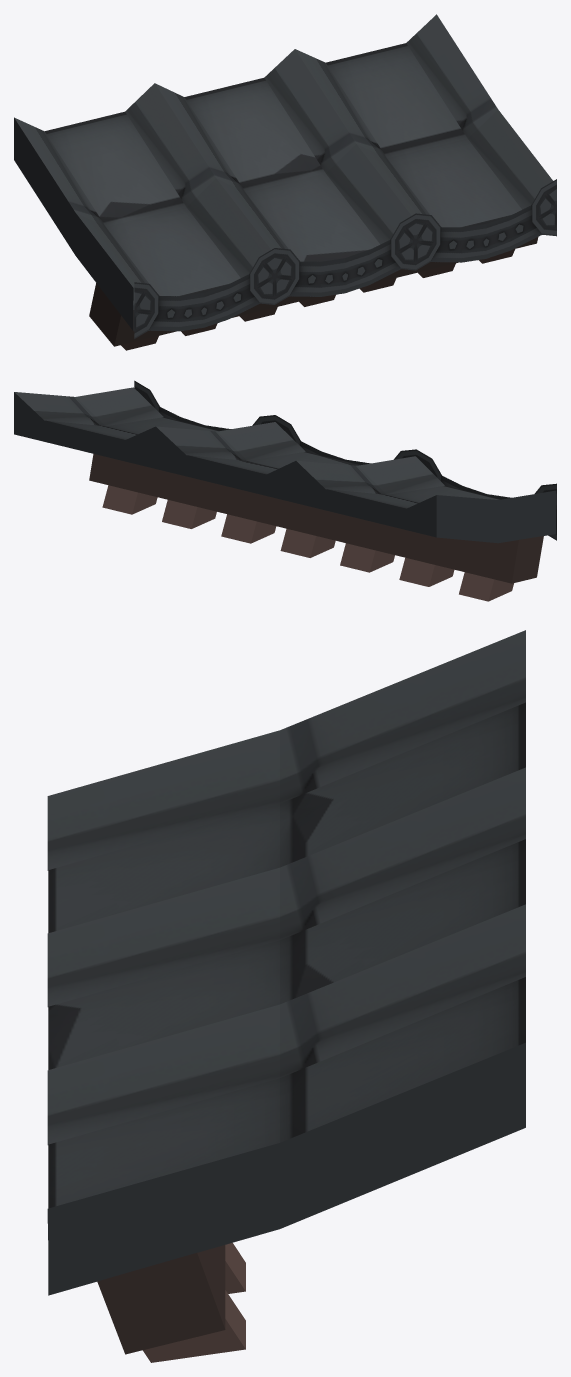
File: SM_Bld_Roof_Edge_Small_01.fbx
3 views of the same model, one above another, from view 1: azimuth 30°, elevation 25°; view 2: azimuth 150°, elevation 25°; view 3: azimuth 270°, elevation 25° (orthographic). The views are drawn at different scales.
Parts seen in each view (by area): view 1: SM_Bld_Roof_Edge_Small_01; view 2: SM_Bld_Roof_Edge_Small_01; view 3: SM_Bld_Roof_Edge_Small_01.
Boxes of the visible parts, x1,y1,x2,y2 form: SM_Bld_Roof_Edge_Small_01: (14,14,556,350); SM_Bld_Roof_Edge_Small_01: (14,380,556,601); SM_Bld_Roof_Edge_Small_01: (47,630,525,1362).
Bounding box in the file's own units: 250 × 95.6 × 123.
